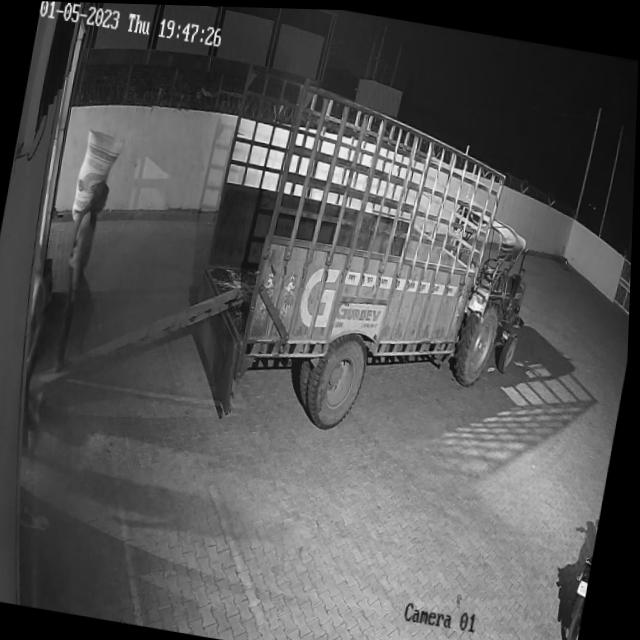sack: (70, 126, 127, 228)
